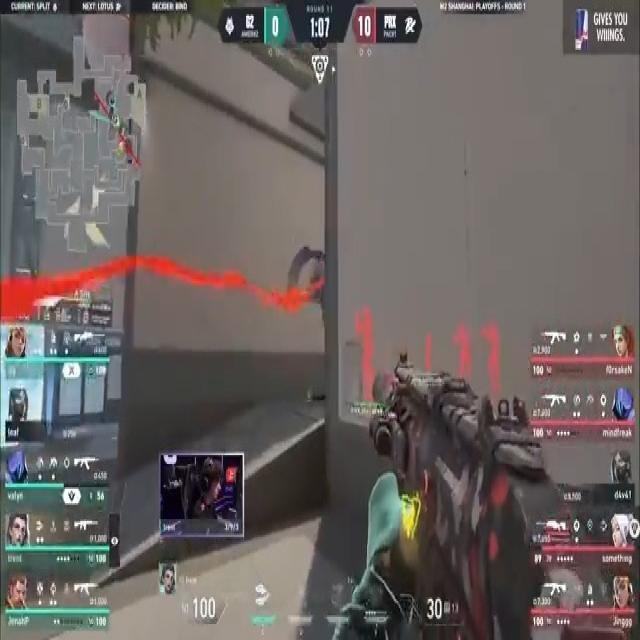enemy behind wall: (354, 300, 384, 422), (480, 314, 502, 398), (454, 321, 474, 382)
